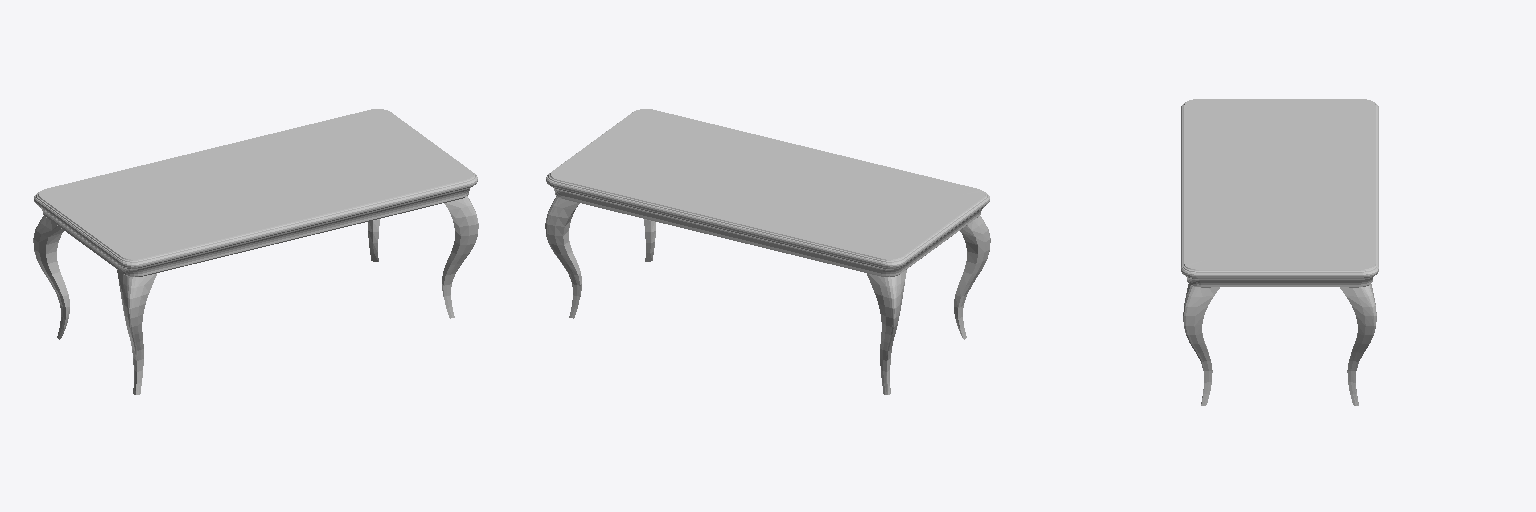
File: table.obj
The picture shows the model from 3 angles: view 1: azimuth 30°, elevation 25°; view 2: azimuth 150°, elevation 25°; view 3: azimuth 270°, elevation 25°; orthographic projection.
Parts seen in each view (by area): view 1: Vintage_Furniture_Coffee_Table Vintage_Furniture_Coffee_Table_Gr; view 2: Vintage_Furniture_Coffee_Table Vintage_Furniture_Coffee_Table_Gr; view 3: Vintage_Furniture_Coffee_Table Vintage_Furniture_Coffee_Table_Gr.
Part boxes in pixels (x1,y1,x2,y2): Vintage_Furniture_Coffee_Table Vintage_Furniture_Coffee_Table_Gr: (33,109,478,394); Vintage_Furniture_Coffee_Table Vintage_Furniture_Coffee_Table_Gr: (545,109,990,394); Vintage_Furniture_Coffee_Table Vintage_Furniture_Coffee_Table_Gr: (1181,99,1378,405).
Size of the model in its own units: 163 by 62.62 by 78.49.